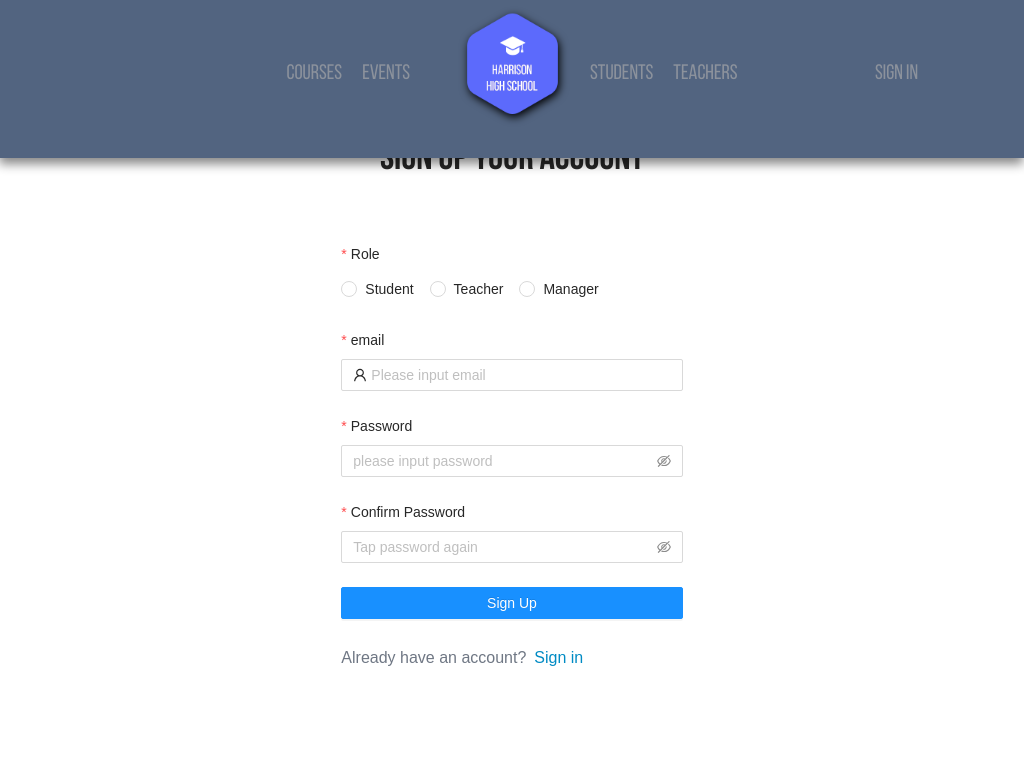
it: 'Sign Up' pages work as intended › ID03: No input, click 'Sign up': error messages for all fields
What coordinates should you click on to do the following:
click the button "Sign Up"
I would click on:
 (512, 603)
Its box is 341,587 -> 682,619.
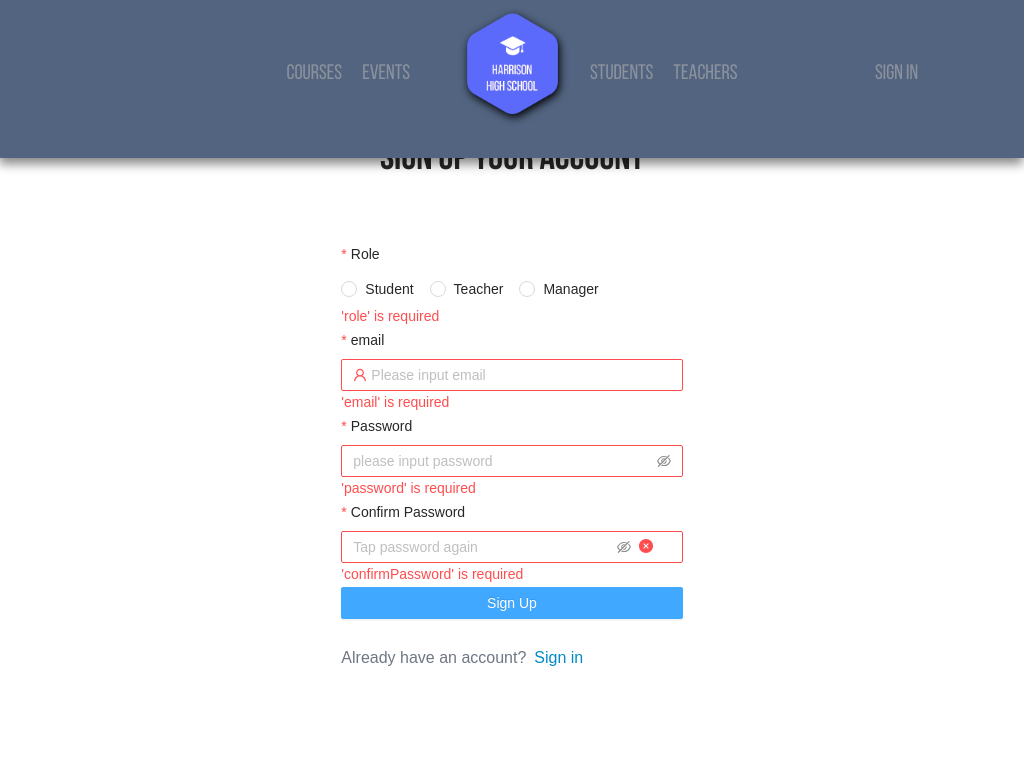
Now the text "'role' is required" is shown, box 341,308 -> 439,324
Now the text "'email' is required" is shown, box 341,394 -> 449,410
Now the text "'password' is required" is shown, box 341,480 -> 476,496
